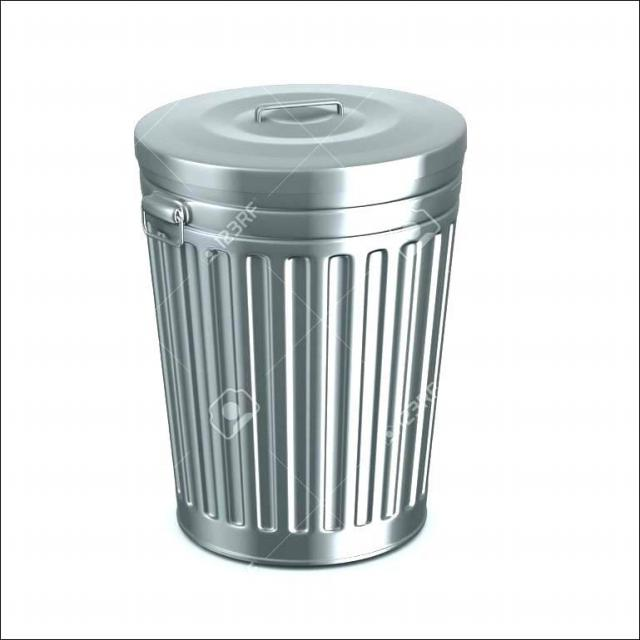metel: (141, 89, 442, 565)
